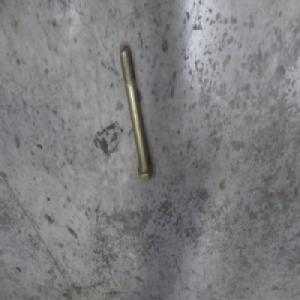Bolt: (119, 46, 153, 182)
